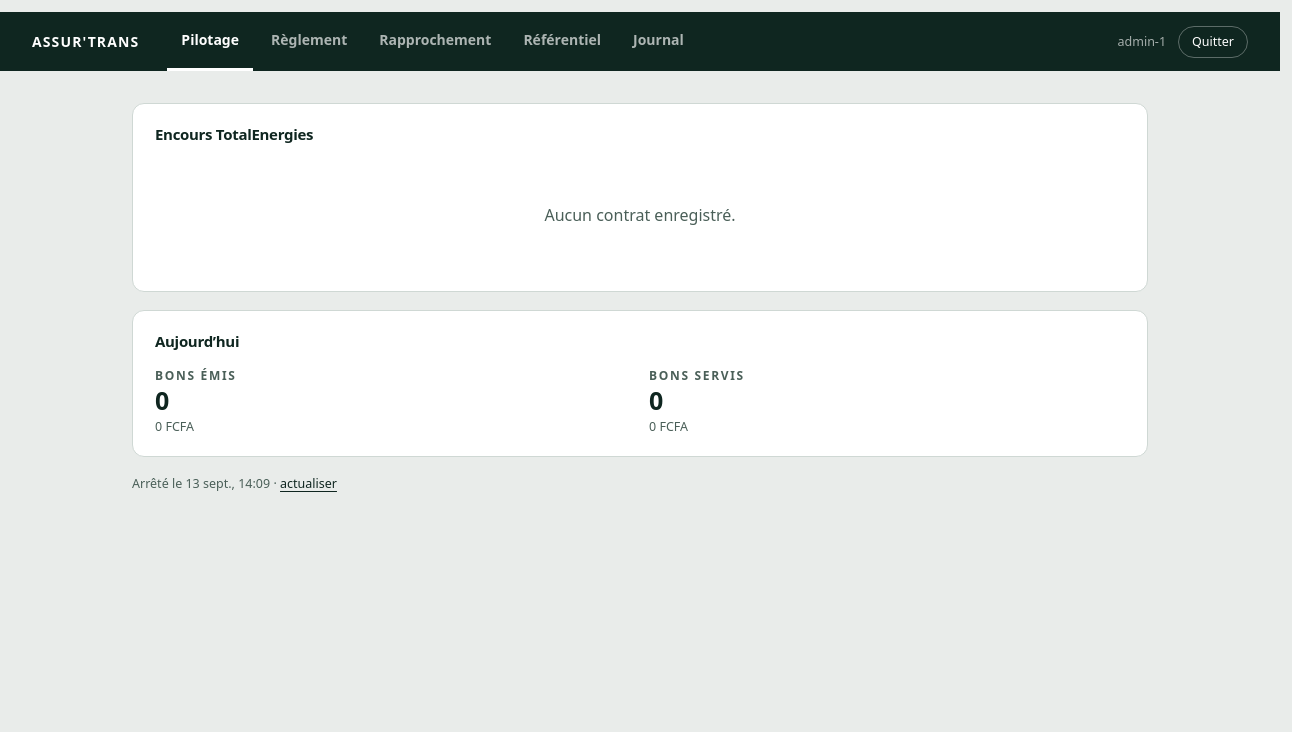
la règle des quatre yeux › désactive Approuver pour la personne qui a préparé, et dit pourquoi
Click the button "Règlement" at point(309, 42), box [257, 12, 361, 71]
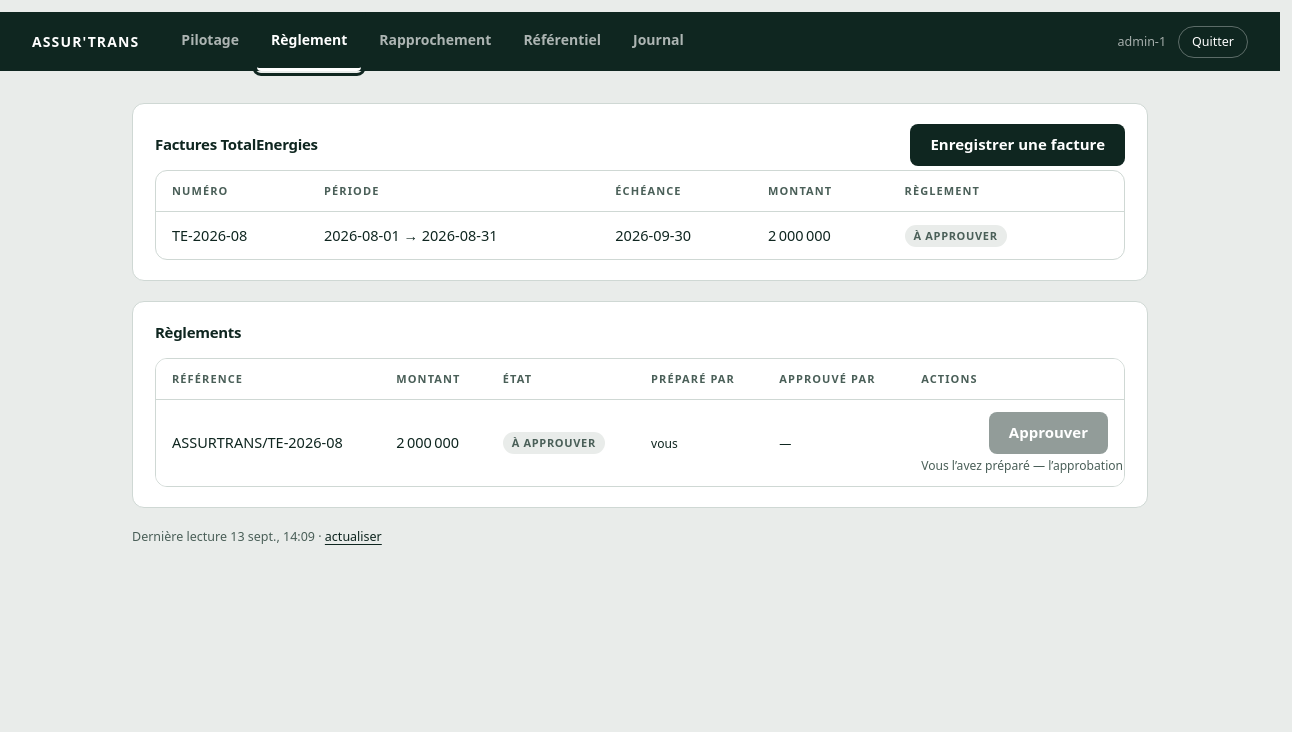
Result: the button "Approuver" is disabled at [989, 412, 1108, 454]
